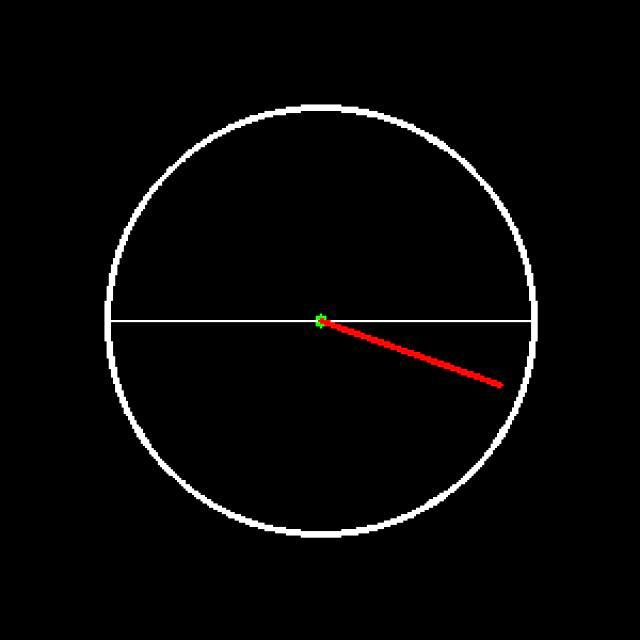Needle_Tip: (470, 361, 512, 407)
Needle_base: (285, 299, 358, 361)
